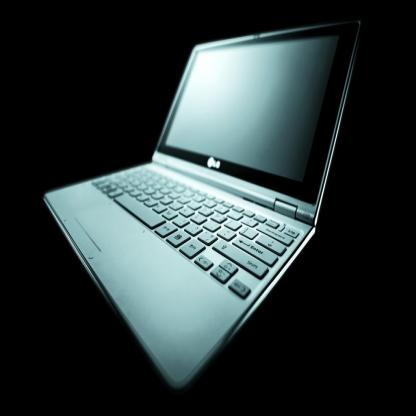board: (43, 0, 365, 384)
